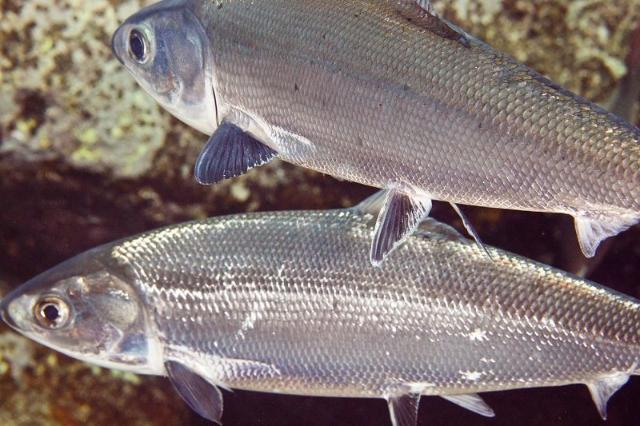Mulut: (84, 4, 166, 78)
Sirip Anal: (554, 190, 640, 262), (570, 342, 640, 426)
Sirip Dada: (177, 80, 299, 204), (146, 348, 260, 426)
Sirip Perut: (333, 154, 491, 286), (368, 374, 506, 426)
